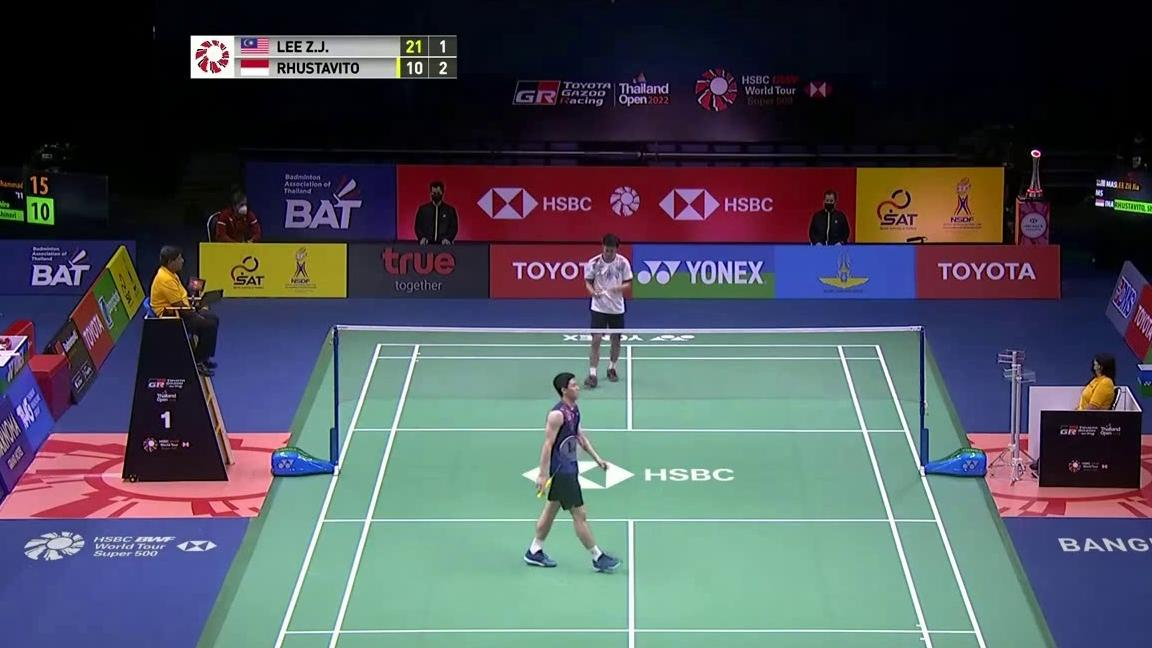racket: (538, 436, 583, 499)
